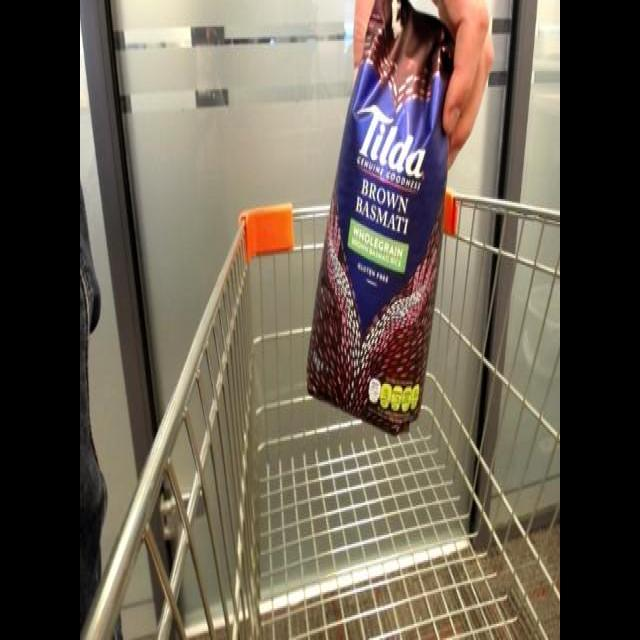Tida: (301, 3, 484, 438)
